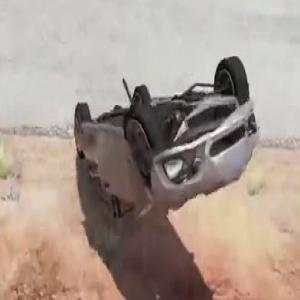critical: (71, 45, 261, 221)
